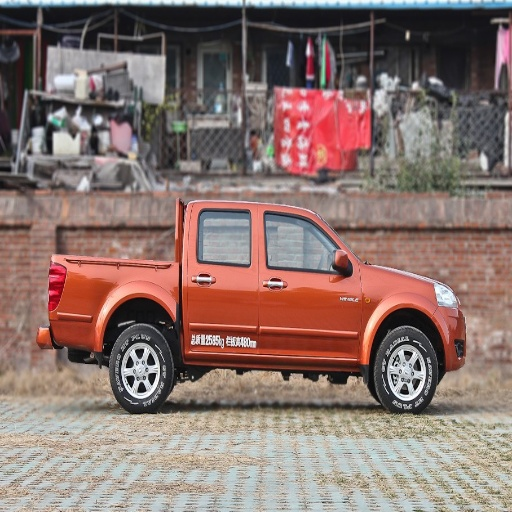back_right_door: (186, 206, 261, 349)
front_right_door: (260, 208, 361, 357)
trunk: (51, 258, 175, 351)
